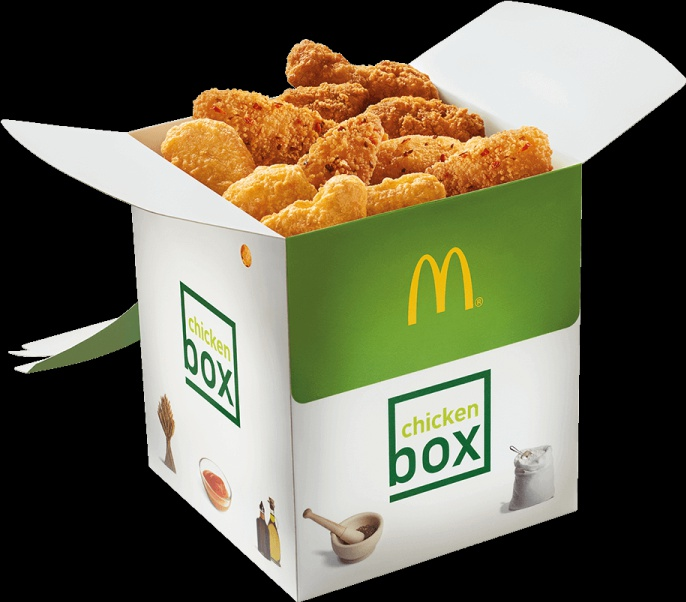mcdonalds: (405, 244, 478, 331)
